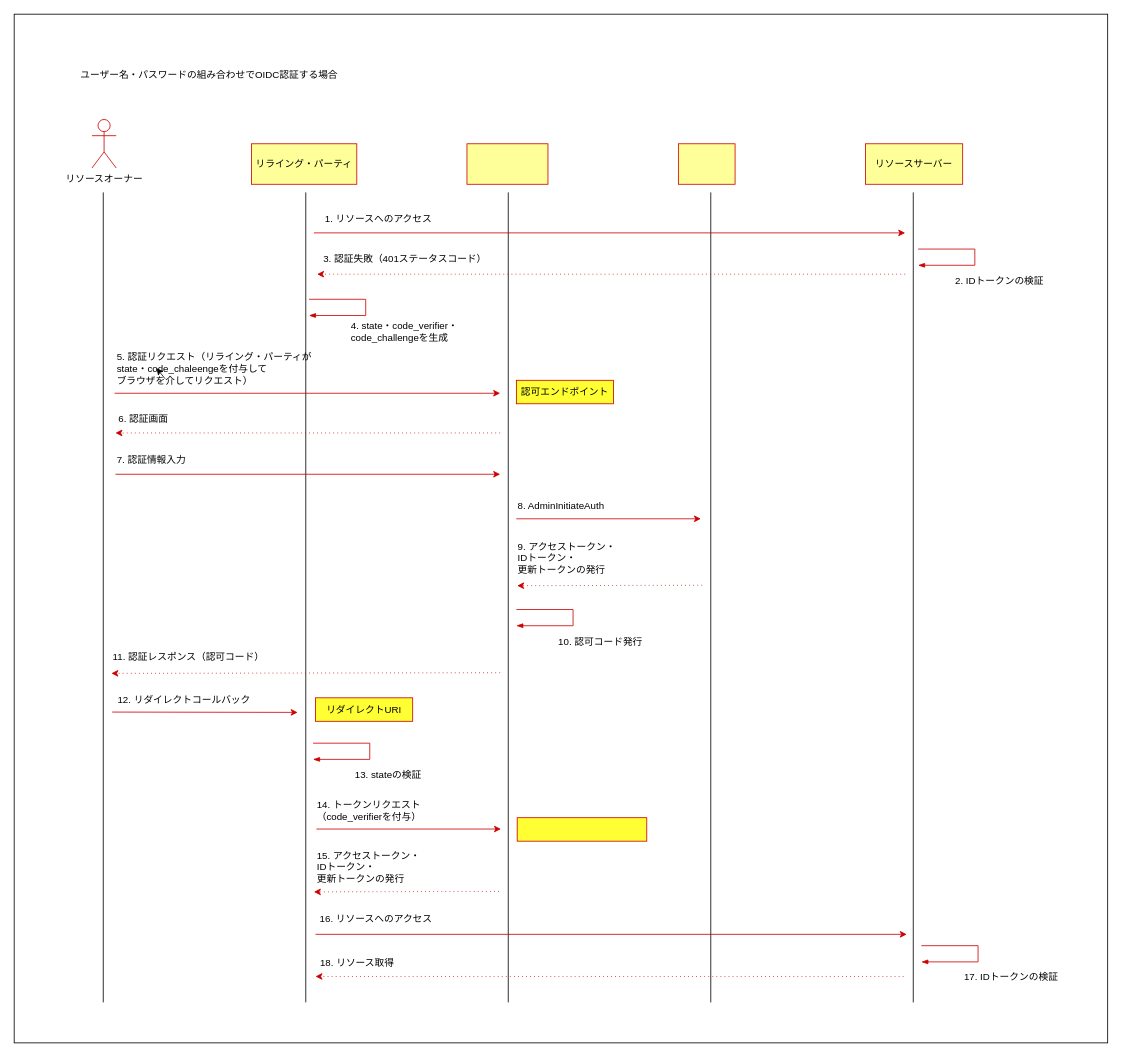
The diagram is 1122 pixels wide and 1057 high, and some of its shapes have lost their labels. The shapes that lost their labels are listed below. From the top down, each one's box as (x1, y1, x2, y2) in pixels, then its label:
(466, 143, 548, 184): 認可サーバー
(678, 143, 735, 184): Cognito
(516, 817, 647, 841): トークンエンドポイント
